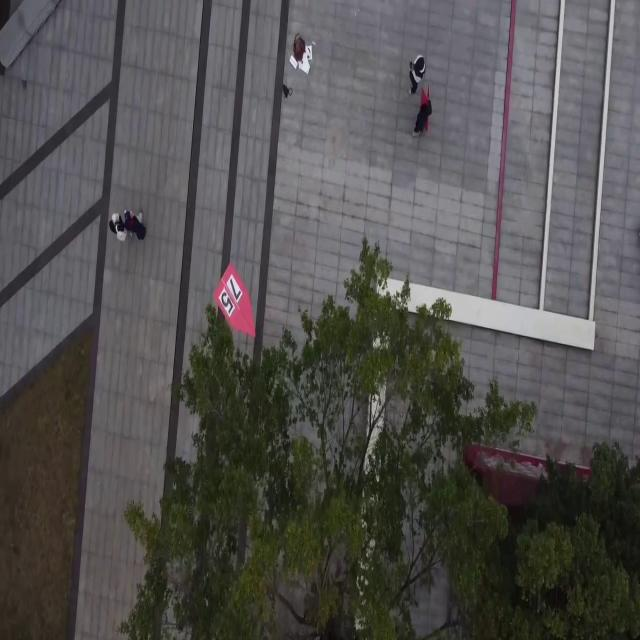-sign-: (212, 262, 256, 339)
